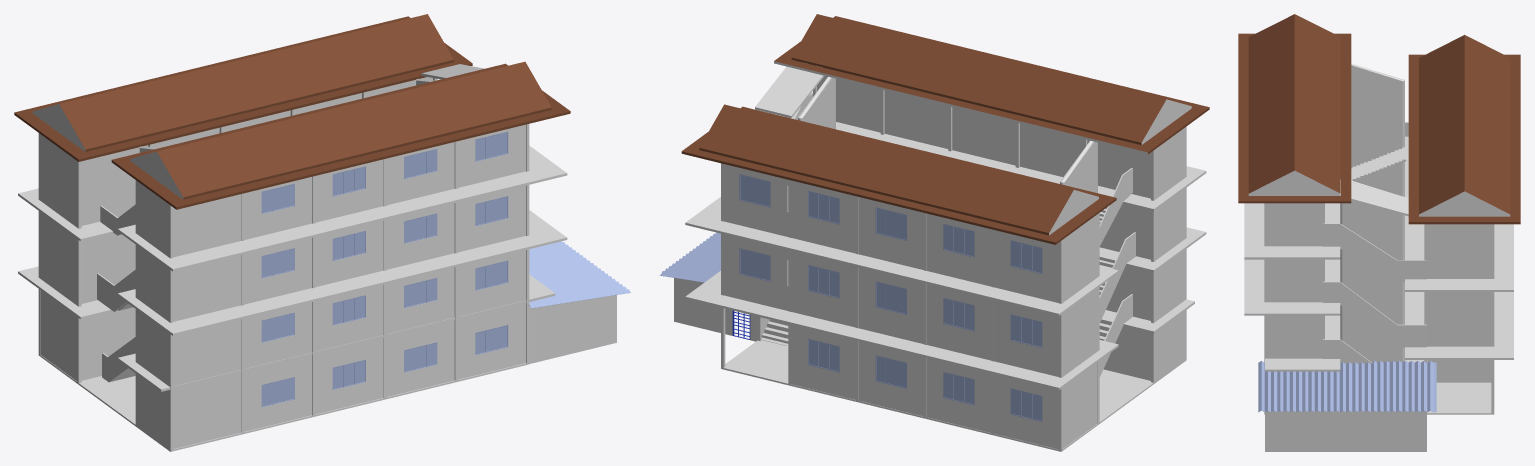
File: Dormitory_1.glb
3 renders of one model, left to right at view 1: azimuth 30°, elevation 25°; view 2: azimuth 150°, elevation 25°; view 3: azimuth 270°, elevation 25°, orthographic. The views are drawn at different scales.
Visible parts, largest first — view 1: F1.010, F1.012, F1.002, F1.005, F1.007, F1.009, Plane, f3, F1.008, F1.006, Cube.004, f2 (+23 smaller); view 2: F1.010, F1.012, f2, f3, F1, F1.009, F1.001, F1.003, Cube.001, F1.011, Cube.003, Plane (+23 smaller); view 3: F1.010, F1.012, Plane, Cube.003, Cube.005, f2, f3, F1.003, F1.001, F1.006, F1.008, F1.005 (+8 smaller).
Part boxes in pixels (box(x1,y1,x2,y2)): F1.010: box(111, 61, 570, 209); F1.012: box(14, 14, 472, 161); F1.002: box(137, 303, 525, 451); F1.005: box(137, 250, 525, 386); F1.007: box(137, 185, 525, 322); F1.009: box(137, 124, 525, 257); Plane: box(528, 241, 630, 363); f3: box(39, 77, 432, 227); F1.008: box(118, 145, 567, 271); F1.006: box(118, 210, 567, 335); Cube.004: box(135, 124, 529, 450); f2: box(38, 212, 135, 305); F1.010: box(774, 14, 1209, 154); F1.012: box(681, 104, 1116, 244); f2: box(721, 233, 1097, 376); f3: box(721, 163, 1097, 302); F1: box(791, 325, 1097, 449); F1.009: box(817, 76, 1186, 199); F1.001: box(685, 271, 1118, 389); F1.003: box(685, 197, 1118, 315); Cube.001: box(721, 163, 1099, 451); F1.011: box(723, 337, 1186, 451); Cube.003: box(755, 66, 835, 345); Plane: box(659, 232, 757, 341); F1.010: box(1238, 14, 1351, 203); F1.012: box(1408, 35, 1520, 224); Plane: box(1258, 361, 1436, 451); Cube.003: box(1322, 179, 1426, 363); Cube.005: box(1351, 63, 1404, 196); f2: box(1427, 292, 1491, 346); f3: box(1427, 224, 1491, 278); F1.003: box(1405, 136, 1513, 291); F1.001: box(1405, 292, 1513, 359); F1.006: box(1244, 259, 1340, 315); F1.008: box(1244, 203, 1340, 259); F1.005: box(1267, 315, 1321, 358).
Size of the model in its own units: 32.45 by 19.09 by 19.58.
